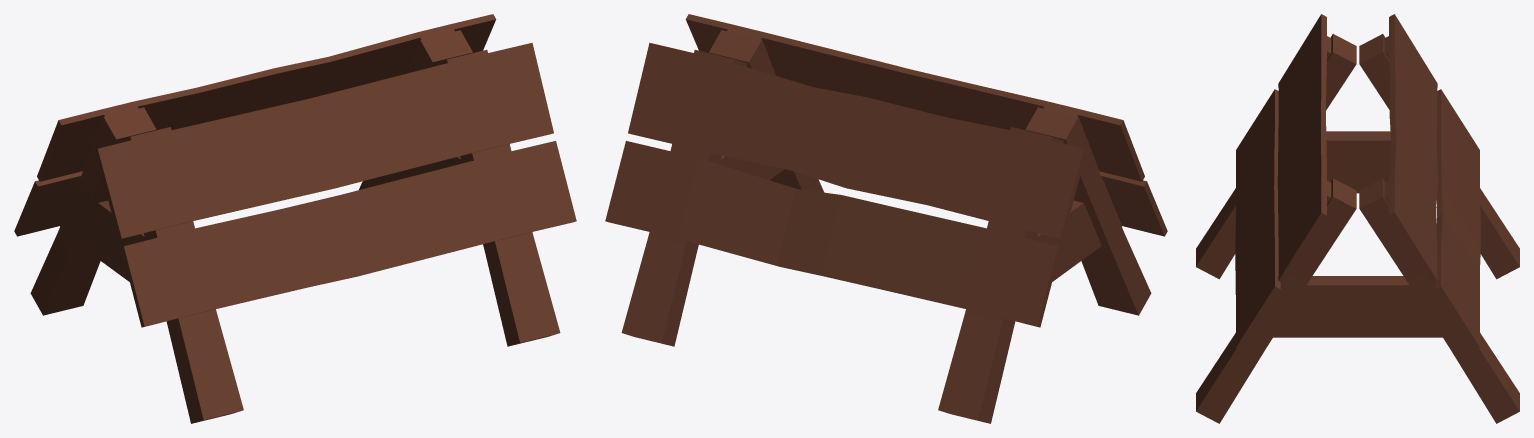
File: Obstacle.fbx
3 renders of one model, left to right at view 1: azimuth 30°, elevation 25°; view 2: azimuth 150°, elevation 25°; view 3: azimuth 270°, elevation 25°, orthographic. The views are drawn at different scales.
Parts seen in each view (by area): view 1: Obstacle; view 2: Obstacle; view 3: Obstacle.
Boxes of the visible parts, x1,y1,x2,y2 form: Obstacle: [14, 14, 576, 423]; Obstacle: [605, 14, 1167, 423]; Obstacle: [1196, 14, 1519, 423].
Size of the model in its own units: 3.43 by 1.85 by 2.37.
